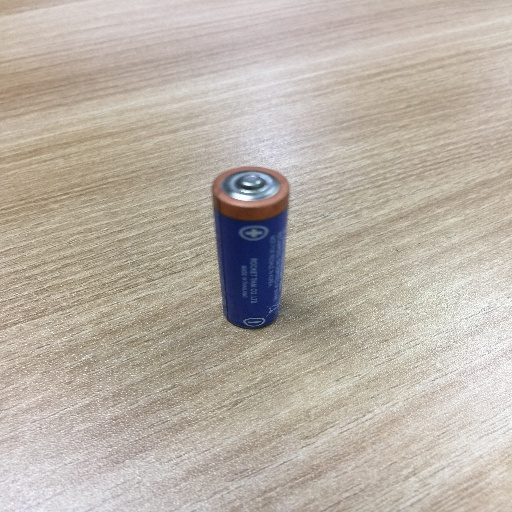Battery_0: (203, 151, 301, 344)
